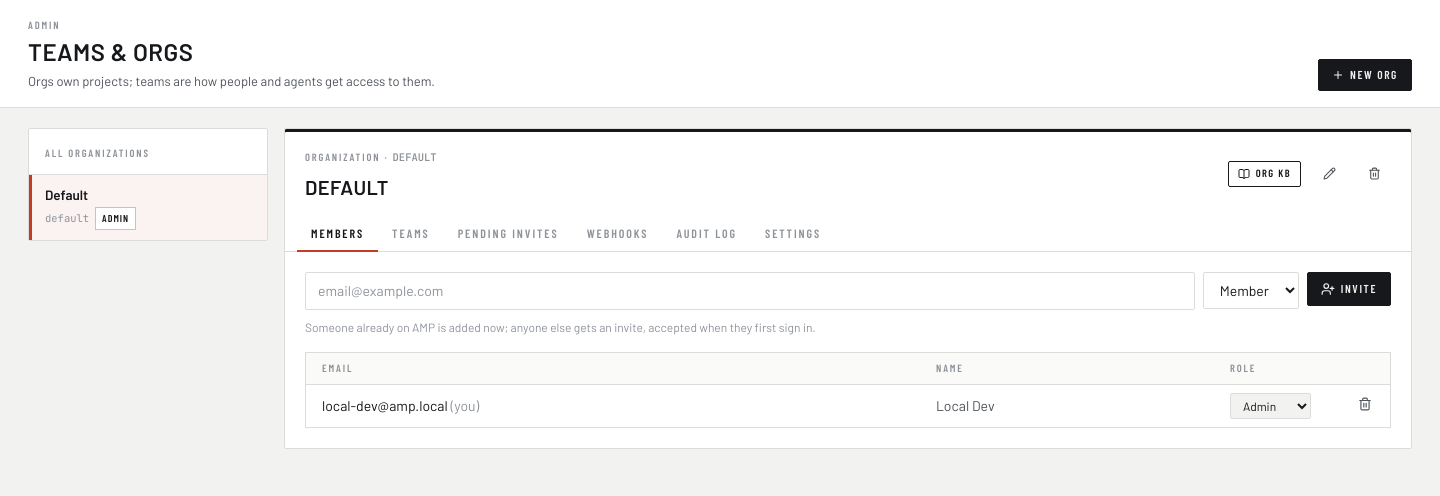
Scenario: Teams & orgs > Members › lists you and invites with an explicit Invite button
Expected: the text "(you)" is shown, left=448, top=397, right=479, bottom=414
Type "new@x.io" into the field named "Email to invite".
click(750, 291); type("new@x.io")  # box left=305, top=272, right=1195, bottom=310
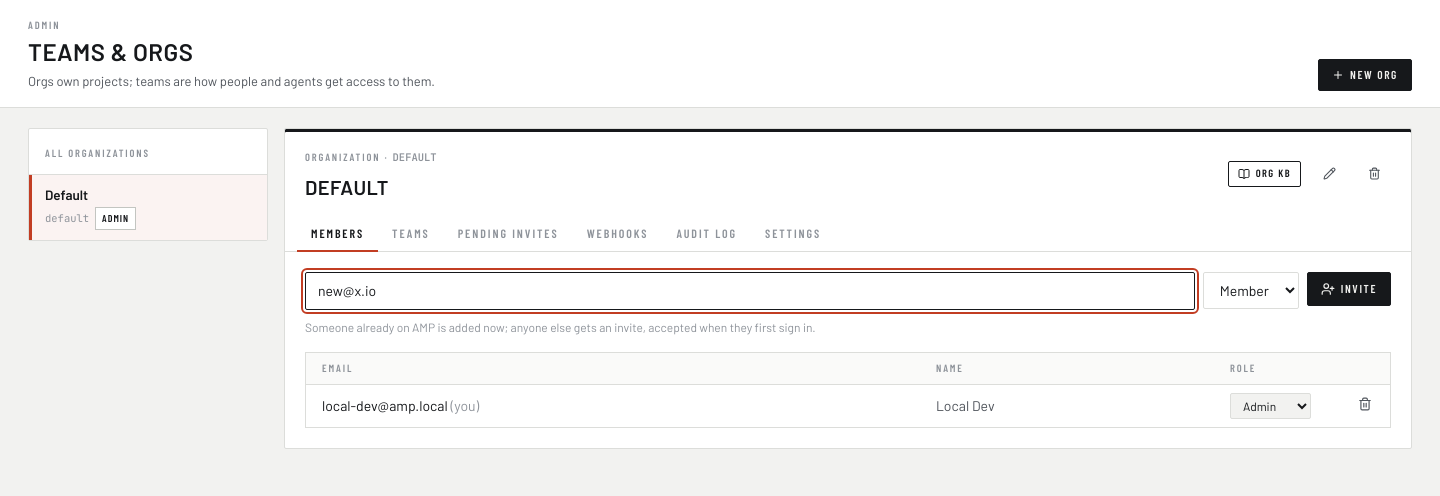
Select "Admin" in the dropdown named "Role" at (1251, 291), box left=1203, top=272, right=1299, bottom=309
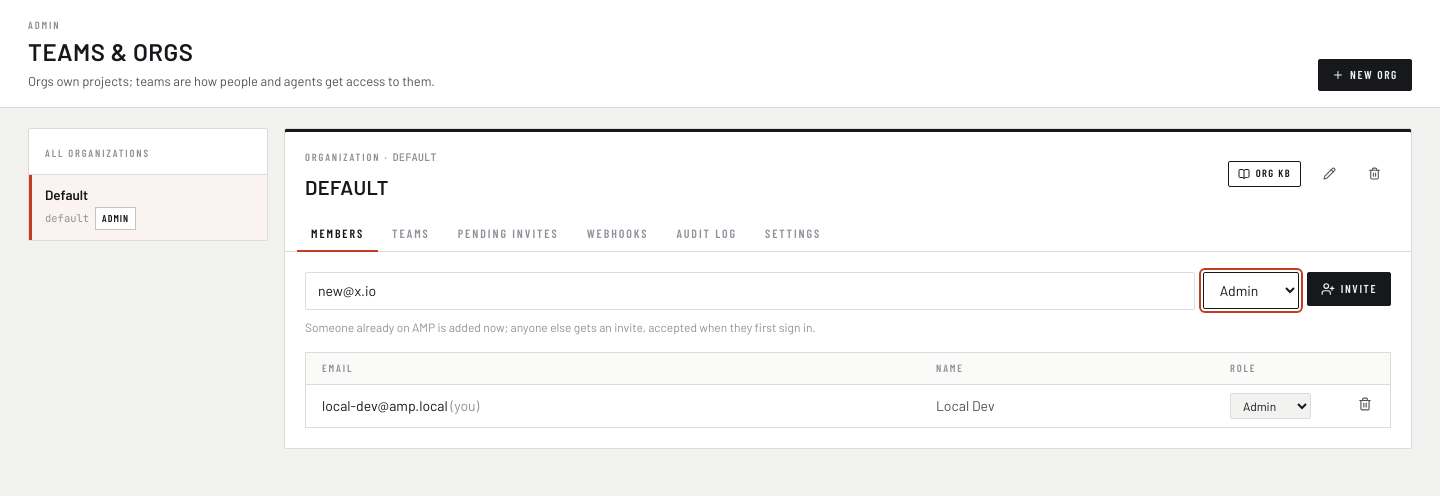
Click the button "Invite".
click(1349, 289)  # box left=1307, top=272, right=1391, bottom=306
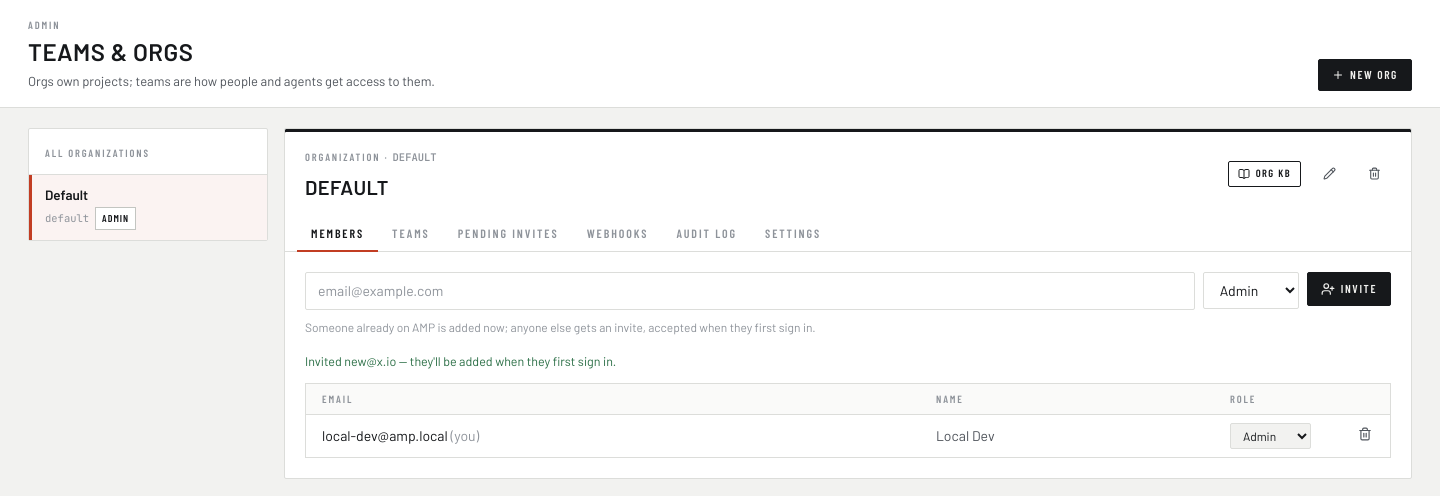
Expected: the text "Invited new@x.io — they'll be added when they first sign in." is shown, left=305, top=353, right=616, bottom=369
